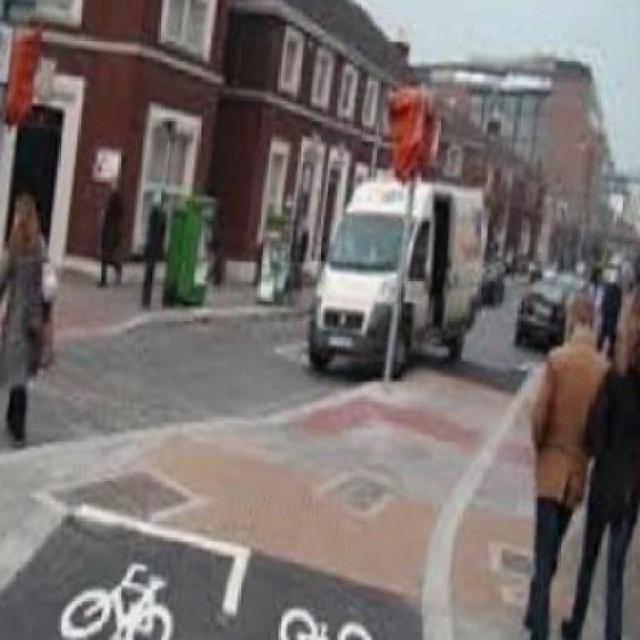Person: (566, 290, 639, 638), (512, 286, 580, 639), (0, 190, 60, 448)
